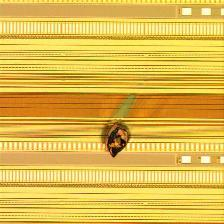PARTICLE: (100, 119, 134, 161)
